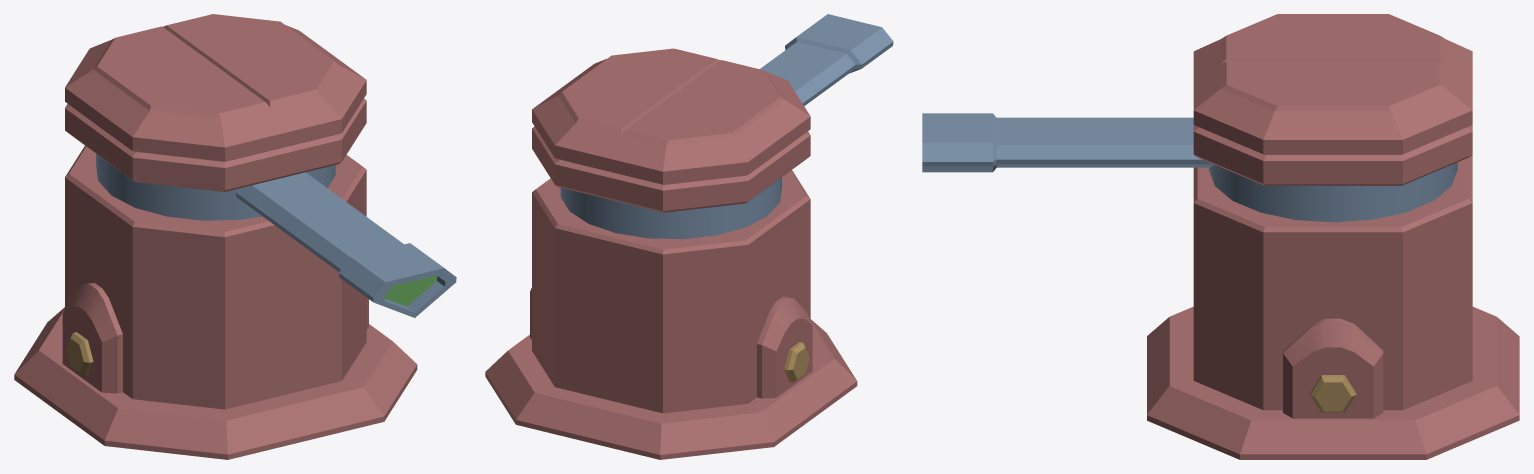
File: tower.fbx
The picture shows the model from 3 angles, left to right: view 1: azimuth 30°, elevation 25°; view 2: azimuth 150°, elevation 25°; view 3: azimuth 270°, elevation 25°; orthographic projection. The views are drawn at different scales.
Visible parts, largest first — view 1: tower_body, tower_gun; view 2: tower_body, tower_gun; view 3: tower_body, tower_gun.
Boxes of the visible parts, <box> form: tower_body: <box>14,14,417,459</box>; tower_gun: <box>96,153,456,317</box>; tower_body: <box>485,48,857,459</box>; tower_gun: <box>560,14,893,239</box>; tower_body: <box>1147,14,1519,459</box>; tower_gun: <box>922,113,1457,222</box>.
Size of the model in its own units: 2472 by 2349 by 3960.
